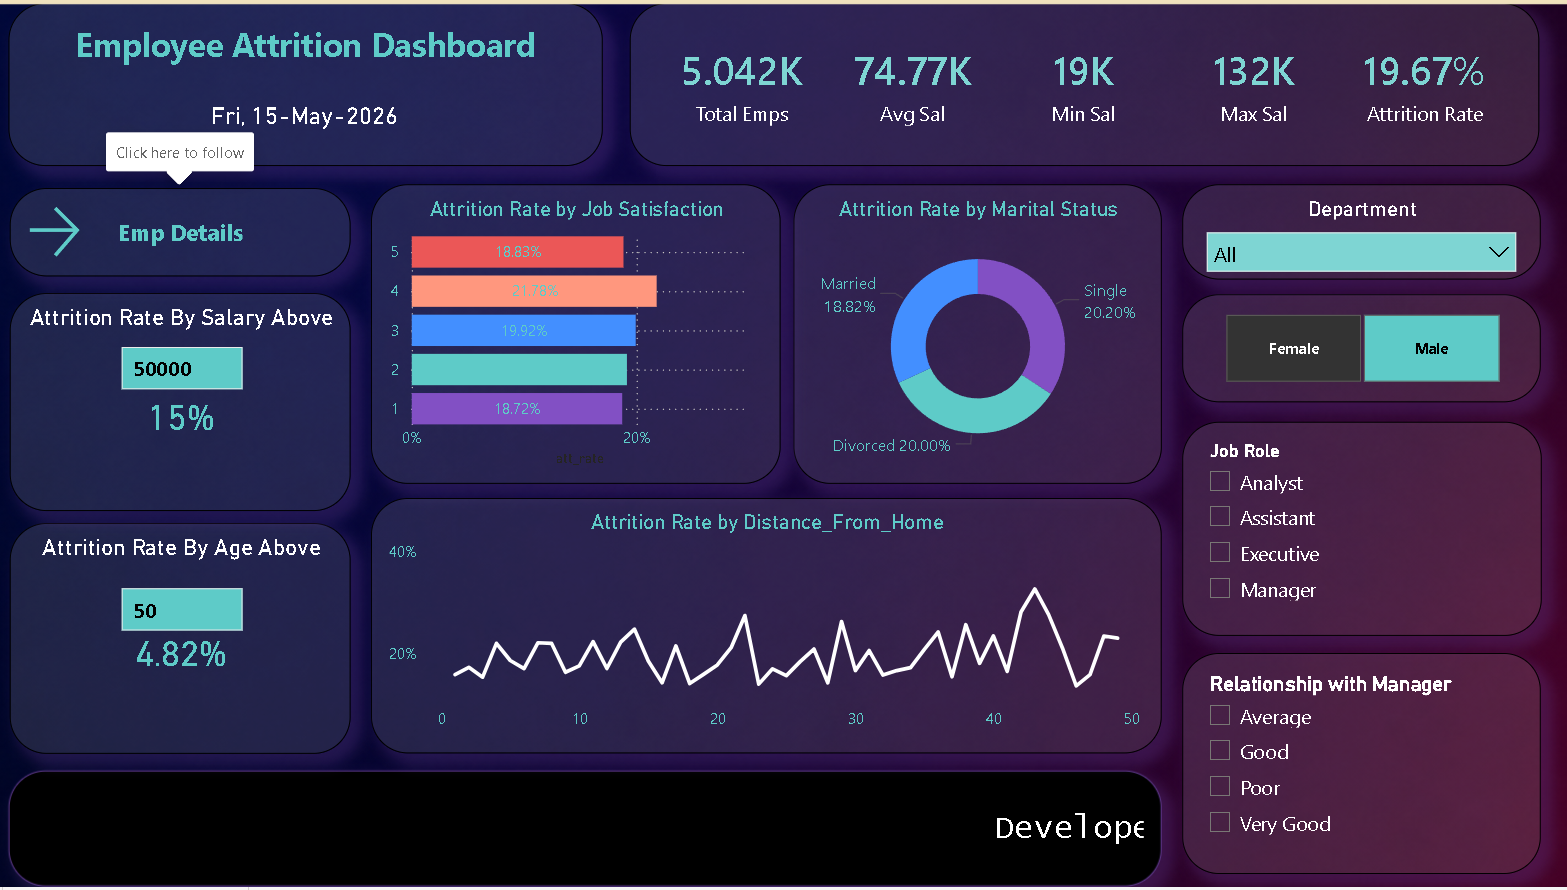

The dashboard page shown, as its layout file describes it:
{"tool":"powerbi","page":{"name":"dashboard","canvas":[1280,720],"ordinal":0},"visuals":[{"type":"textbox","box":[10.5,0,483.7,132.6],"z":0},{"type":"card","title":"Date","fields":{"Values":["emp_attrition.curr_date"]},"box":[116.3,61.6,270.9,60.5],"z":1000},{"type":"cardVisual","fields":{"Data":["CountNonNull(emp_attrition.Employee_ID)","Avg(emp_attrition.Monthly_Income)","Min(emp_attrition.Monthly_Income)","Max(emp_attrition.Monthly_Income)1","emp_attrition.att_rate"]},"box":[516.3,0,740.7,132.6],"z":2000},{"type":"slicer","title":"Gender","fields":{"Values":["emp_attrition.Gender"]},"box":[966.3,237.2,291.9,88.4],"z":3000},{"type":"slicer","fields":{"Values":["emp_attrition.Job_Role"]},"box":[966.3,340.7,293,174.4],"z":4000},{"type":"slicer","title":"Department","fields":{"Values":["emp_attrition.Department"]},"box":[966.3,147.7,291.9,77.9],"z":5000},{"type":"slicer","fields":{"Values":["emp_attrition.Relationship_with_Manager"]},"box":[966.3,529.1,291.9,180.2],"z":6000},{"type":"ScrollingTextVisual1448795304508","fields":{"Category":["emp_attrition.Marital_Status"],"Measure Absolute":["emp_attrition.att_rate"]},"box":[10.5,625.6,939.5,94.2],"z":7000},{"type":"donutChart","title":"Attrition Rate by Marital Status","fields":{"Category":["emp_attrition.Marital_Status"],"Y":["emp_attrition.att_rate"]},"box":[650,147.7,300,244.2],"z":8000},{"type":"barChart","title":"Attrition Rate by Job Satisfaction","fields":{"Category":["emp_attrition.Job_Satisfaction"],"Series":["emp_attrition.Job_Satisfaction"],"Y":["emp_attrition.att_rate"]},"box":[305.8,147.7,333.7,244.2],"z":9000},{"type":"lineChart","title":"Attrition Rate by Distance_From_Home","fields":{"Category":["emp_attrition.Distance_From_Home"],"Y":["emp_attrition.att_rate"]},"box":[305.8,403.5,644.2,208.1],"z":10000},{"type":"card","title":"Attrition Rate By Age Above","fields":{"Values":["emp_attrition.Att_age"]},"box":[11.6,423.3,277.9,188.4],"z":11000},{"type":"card","title":"Attrition Rate By Salary Above","fields":{"Values":["emp_attrition.att_sal"]},"box":[11.6,236,277.9,177.9],"z":12000},{"type":"slicer","title":"Salary Above","fields":{"Values":["Salary_Para.Salary_Para"]},"box":[89.5,269.8,136,80.2],"z":13000},{"type":"slicer","fields":{"Values":["Age_Para.Age_Para"]},"box":[89.5,466.3,174.4,62.8],"z":14000},{"type":"actionButton","box":[11.6,151.2,277.9,72.1],"z":15000}]}

Visuals, with their boxes in screenshot pixels (x1, y1, x2, y2), scaled from the page's 1280x720 canvas onto the 1567x890 screenshot:
textbox: bbox=(13, 0, 605, 164)
"Date" card: bbox=(142, 76, 474, 151)
cardVisual - CountNonNull(emp_attrition.Employee_ID) x Avg(emp_attrition.Monthly_Income): bbox=(632, 0, 1539, 164)
"Gender" slicer: bbox=(1183, 293, 1540, 402)
slicer - emp_attrition.Job_Role: bbox=(1183, 421, 1542, 637)
"Department" slicer: bbox=(1183, 183, 1540, 279)
slicer - emp_attrition.Relationship_with_Manager: bbox=(1183, 654, 1540, 877)
ScrollingTextVisual1448795304508 - emp_attrition.Marital_Status x emp_attrition.att_rate: bbox=(13, 773, 1163, 889)
"Attrition Rate by Marital Status" donutChart: bbox=(796, 183, 1163, 484)
"Attrition Rate by Job Satisfaction" barChart: bbox=(374, 183, 783, 484)
"Attrition Rate by Distance_From_Home" lineChart: bbox=(374, 499, 1163, 756)
"Attrition Rate By Age Above" card: bbox=(14, 523, 354, 756)
"Attrition Rate By Salary Above" card: bbox=(14, 292, 354, 512)
"Salary Above" slicer: bbox=(110, 334, 276, 433)
slicer - Age_Para.Age_Para: bbox=(110, 576, 323, 654)
actionButton: bbox=(14, 187, 354, 276)
